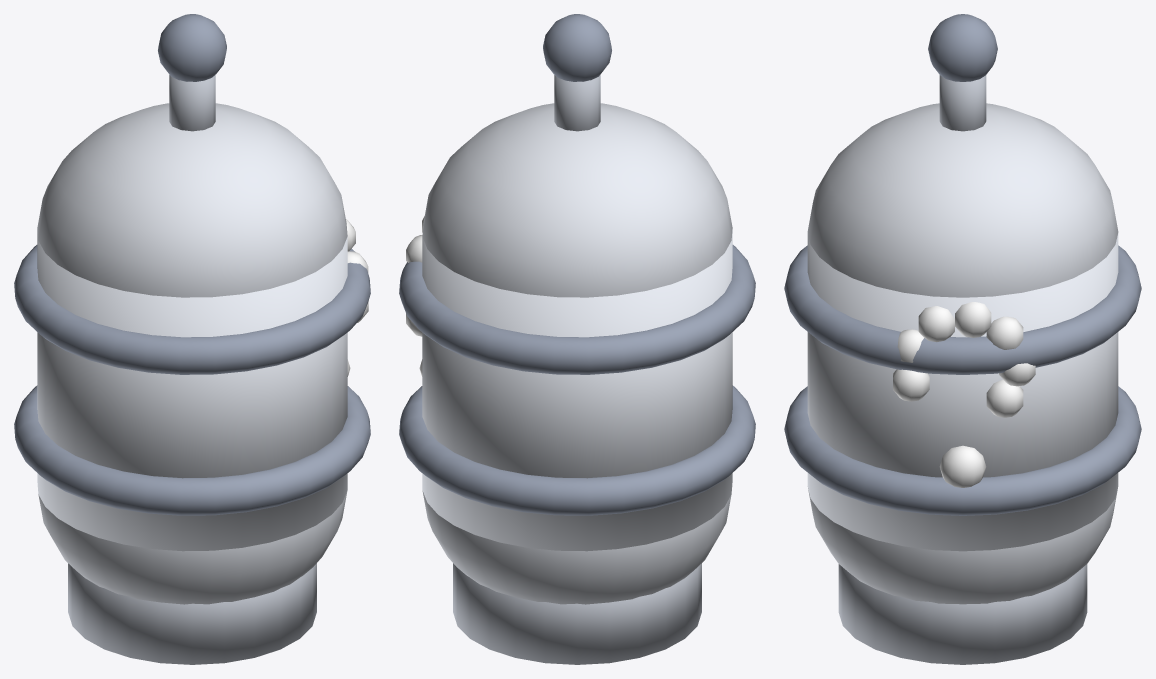
Rendered from SM_Capsule_Common.fbx.
3 renders of one model, left to right at view 1: azimuth 30°, elevation 25°; view 2: azimuth 150°, elevation 25°; view 3: azimuth 270°, elevation 25°, orthographic.
Parts seen in each view (by area): view 1: SM_Capsule_Common; view 2: SM_Capsule_Common; view 3: SM_Capsule_Common.
Boxes of the visible parts, x1,y1,x2,y2 form: SM_Capsule_Common: [14, 14, 370, 664]; SM_Capsule_Common: [399, 14, 755, 664]; SM_Capsule_Common: [784, 14, 1141, 664].
Size of what is drawn, in the model's own units: 0.46 by 0.845 by 0.46.
1 material, 1 textured.
